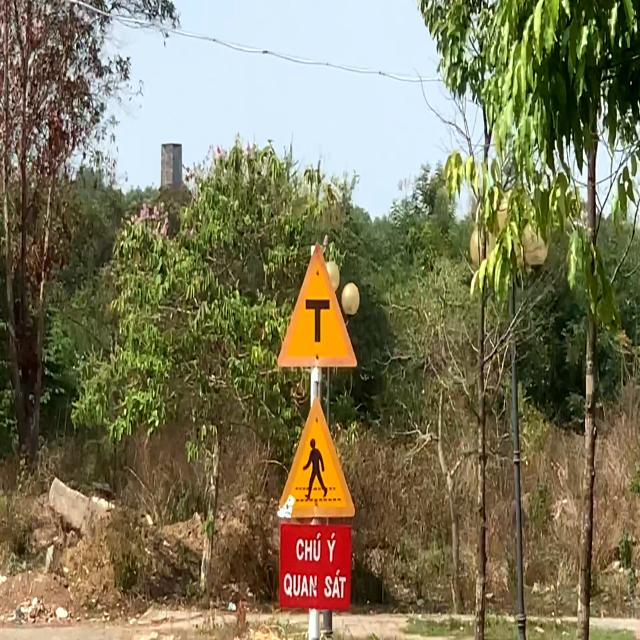W.205b: (274, 239, 359, 370)
W.224: (275, 396, 356, 521)
